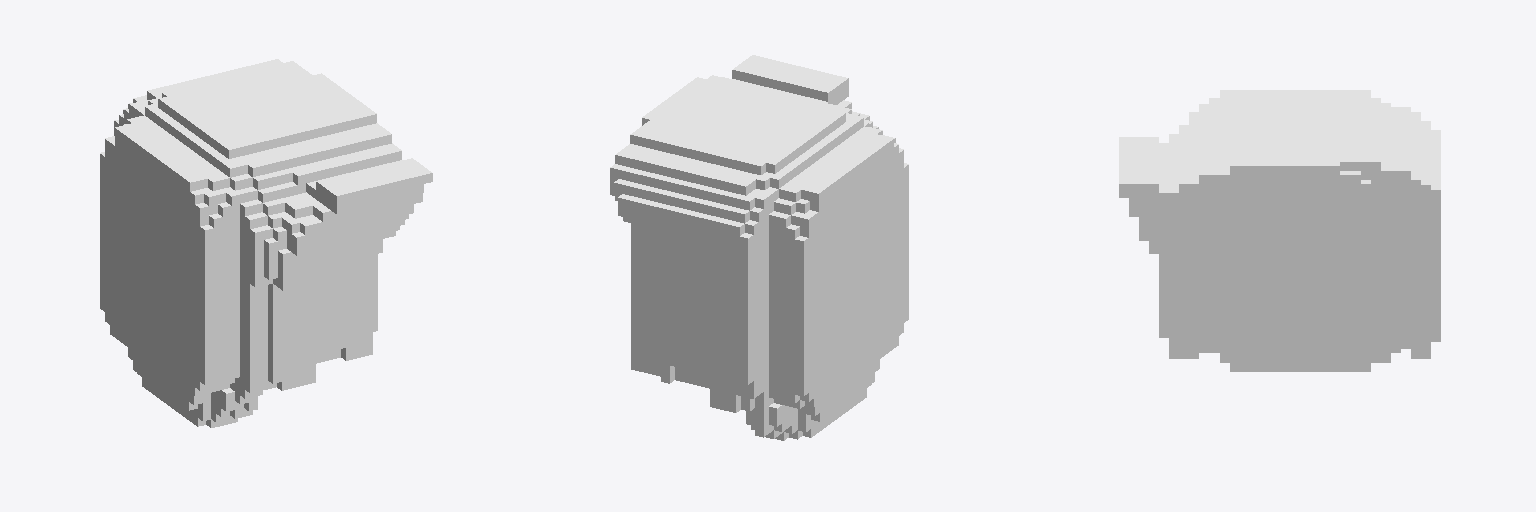
File: Character1_Hair.obj
The picture shows the model from 3 angles: view 1: azimuth 30°, elevation 25°; view 2: azimuth 150°, elevation 25°; view 3: azimuth 270°, elevation 25°; orthographic projection.
Visible parts, largest first — view 1: object 1; view 2: object 1; view 3: object 1.
Part boxes in pixels (left/top/right/bottom): object 1: left=100, top=59, right=432, bottom=427; object 1: left=610, top=55, right=908, bottom=440; object 1: left=1119, top=90, right=1440, bottom=371.
Size of the model in its own units: 2.2 by 3 by 3.2.